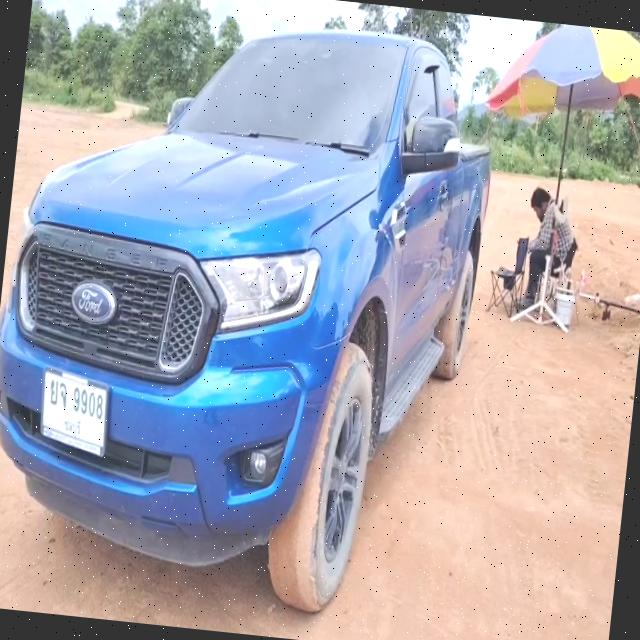Digit: (70, 383, 103, 421)
Licenseplate: (38, 364, 110, 461)
Provincename: (62, 415, 85, 438)
Thaichar: (48, 376, 68, 410)
